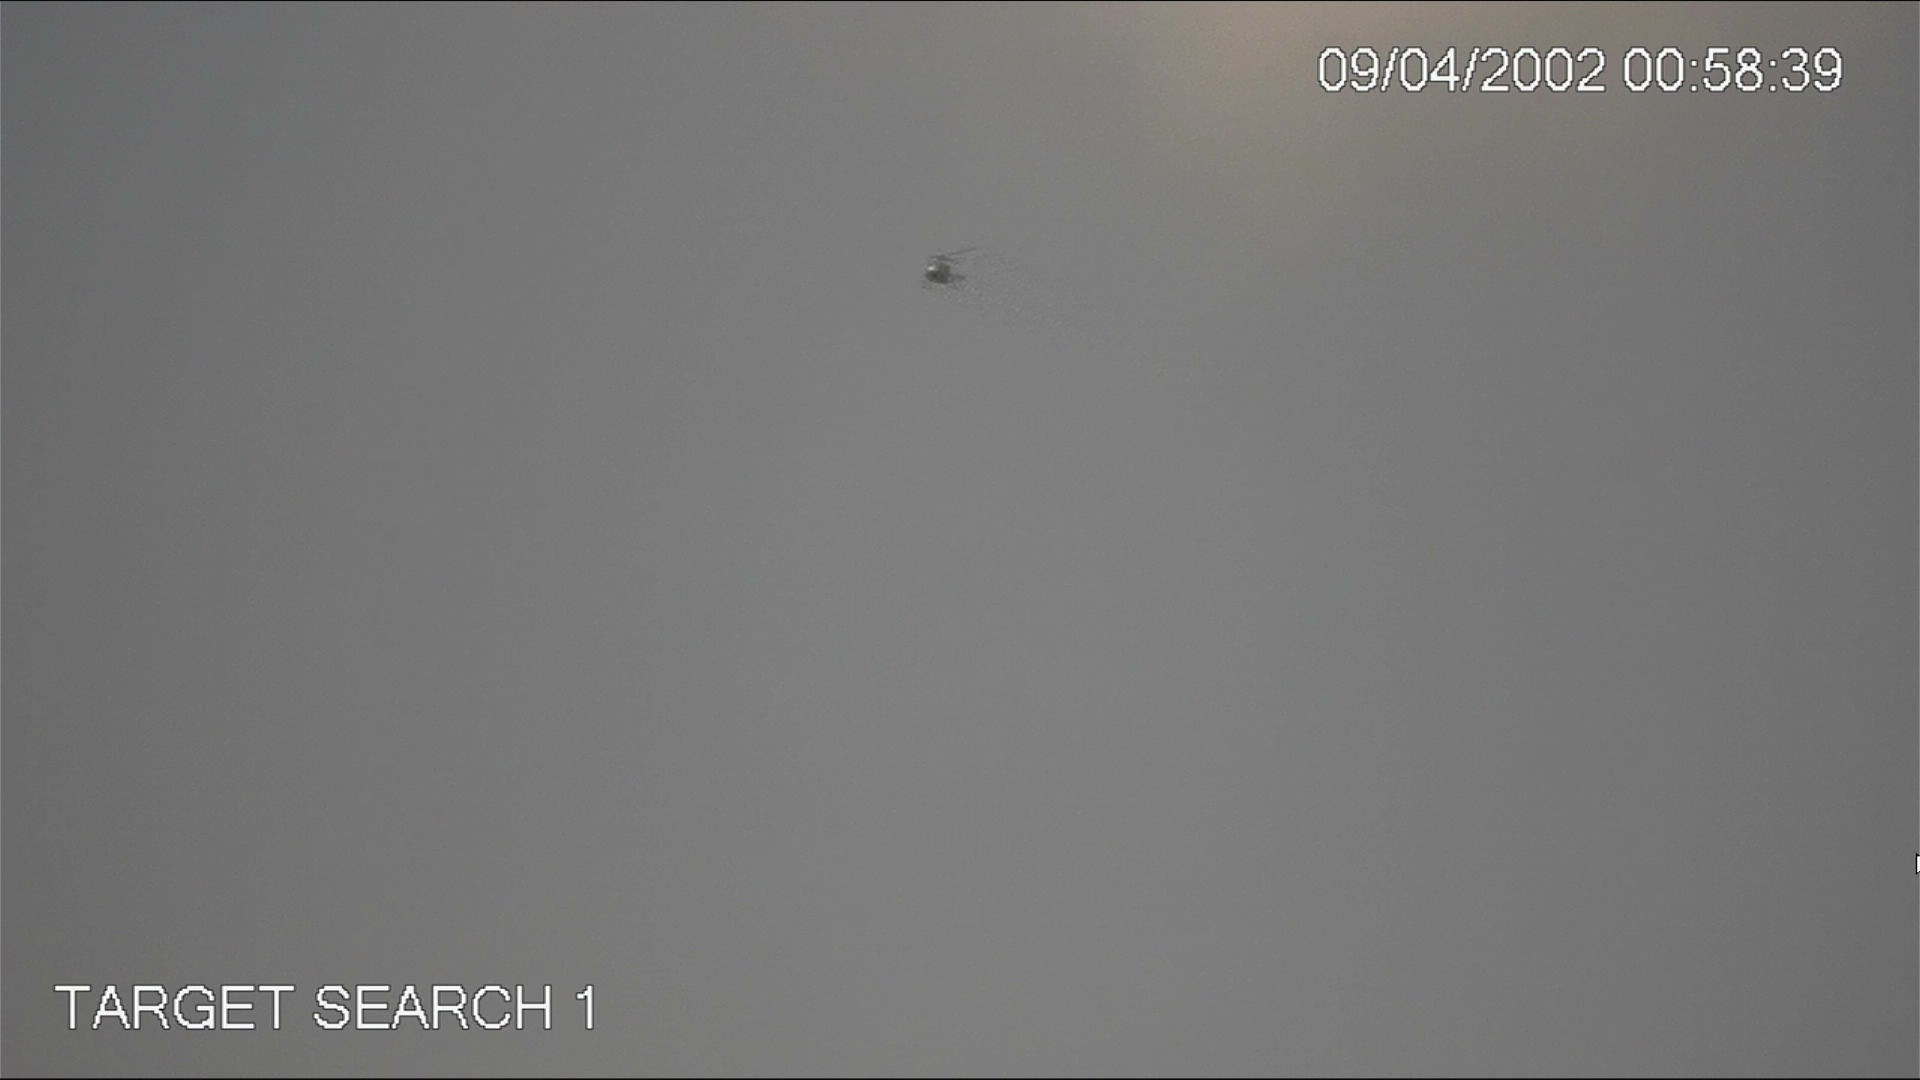SU_30: (920, 251, 973, 286)
